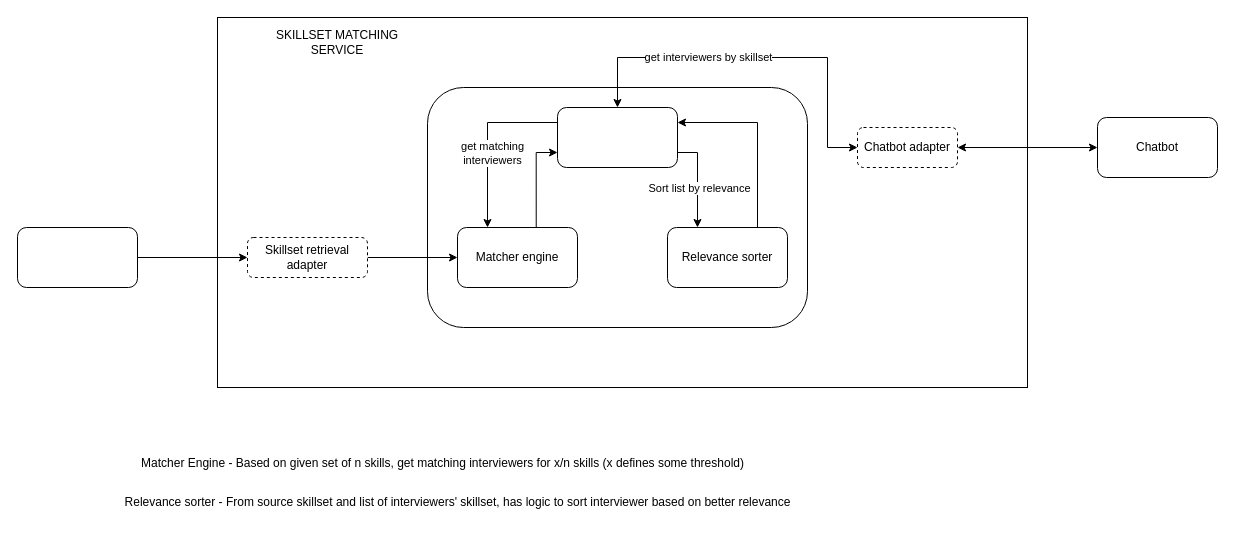
This 1235x535 diagram has some shape labels left out. Here are the shapes that lost their labels. From the top down, the box of each, then its label:
(556, 106, 678, 168): Orchestrator
(16, 226, 138, 288): Jigsaw
